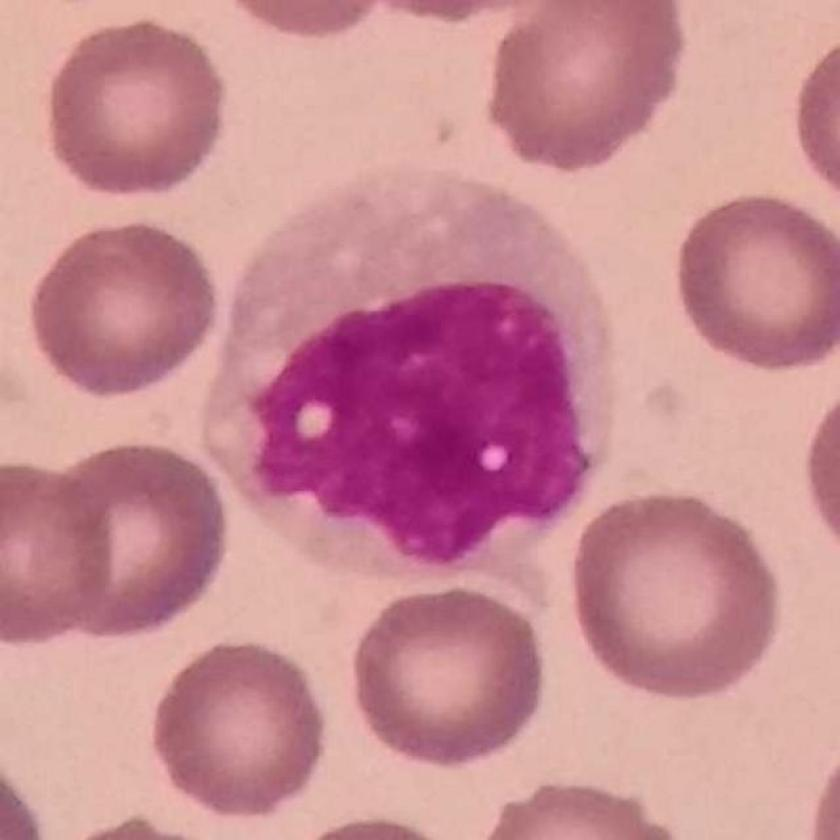monocyte: (203, 159, 627, 585)
